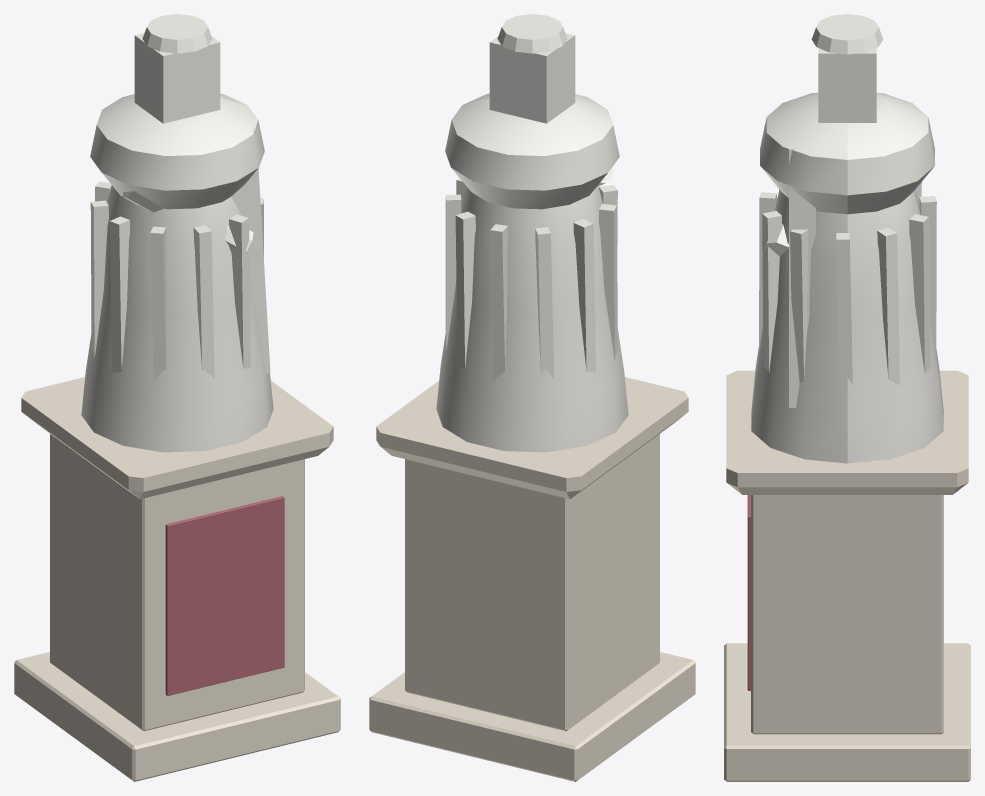
The model's file is roman-bathhouse-and-palaestra-statue-plinth-with-drape-b840d586__37902.glb.
The picture shows the model from 3 angles, left to right: view 1: azimuth 30°, elevation 25°; view 2: azimuth 150°, elevation 25°; view 3: azimuth 270°, elevation 25°; orthographic projection. The views are drawn at different scales.
Parts seen in each view (by area): view 1: statue-plinth-with-draped-figure; view 2: statue-plinth-with-draped-figure; view 3: statue-plinth-with-draped-figure.
Boxes of the visible parts, x1=… form: statue-plinth-with-draped-figure: x1=14, y1=14, x2=340, y2=781; statue-plinth-with-draped-figure: x1=369, y1=14, x2=695, y2=781; statue-plinth-with-draped-figure: x1=724, y1=14, x2=970, y2=781.
Size of the model in its own units: 1.1 by 3.46 by 1.1.
